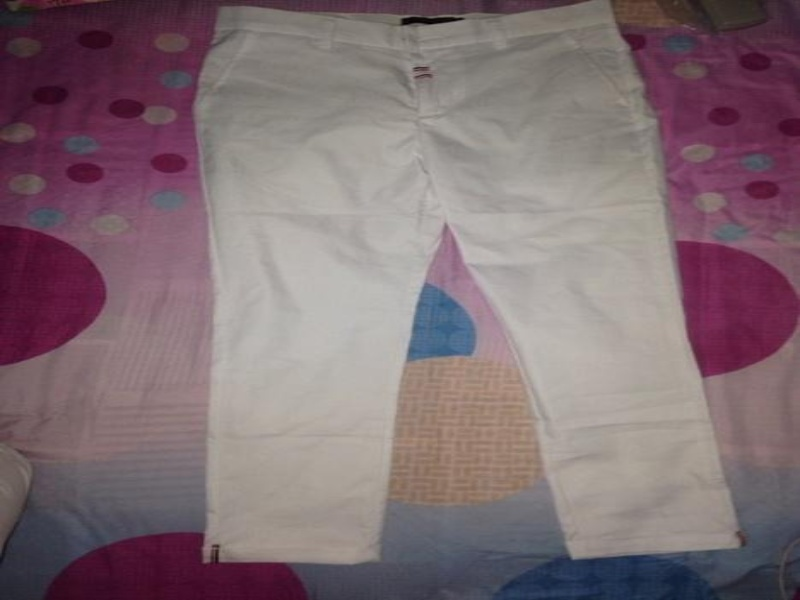trousers: (181, 0, 742, 571)
